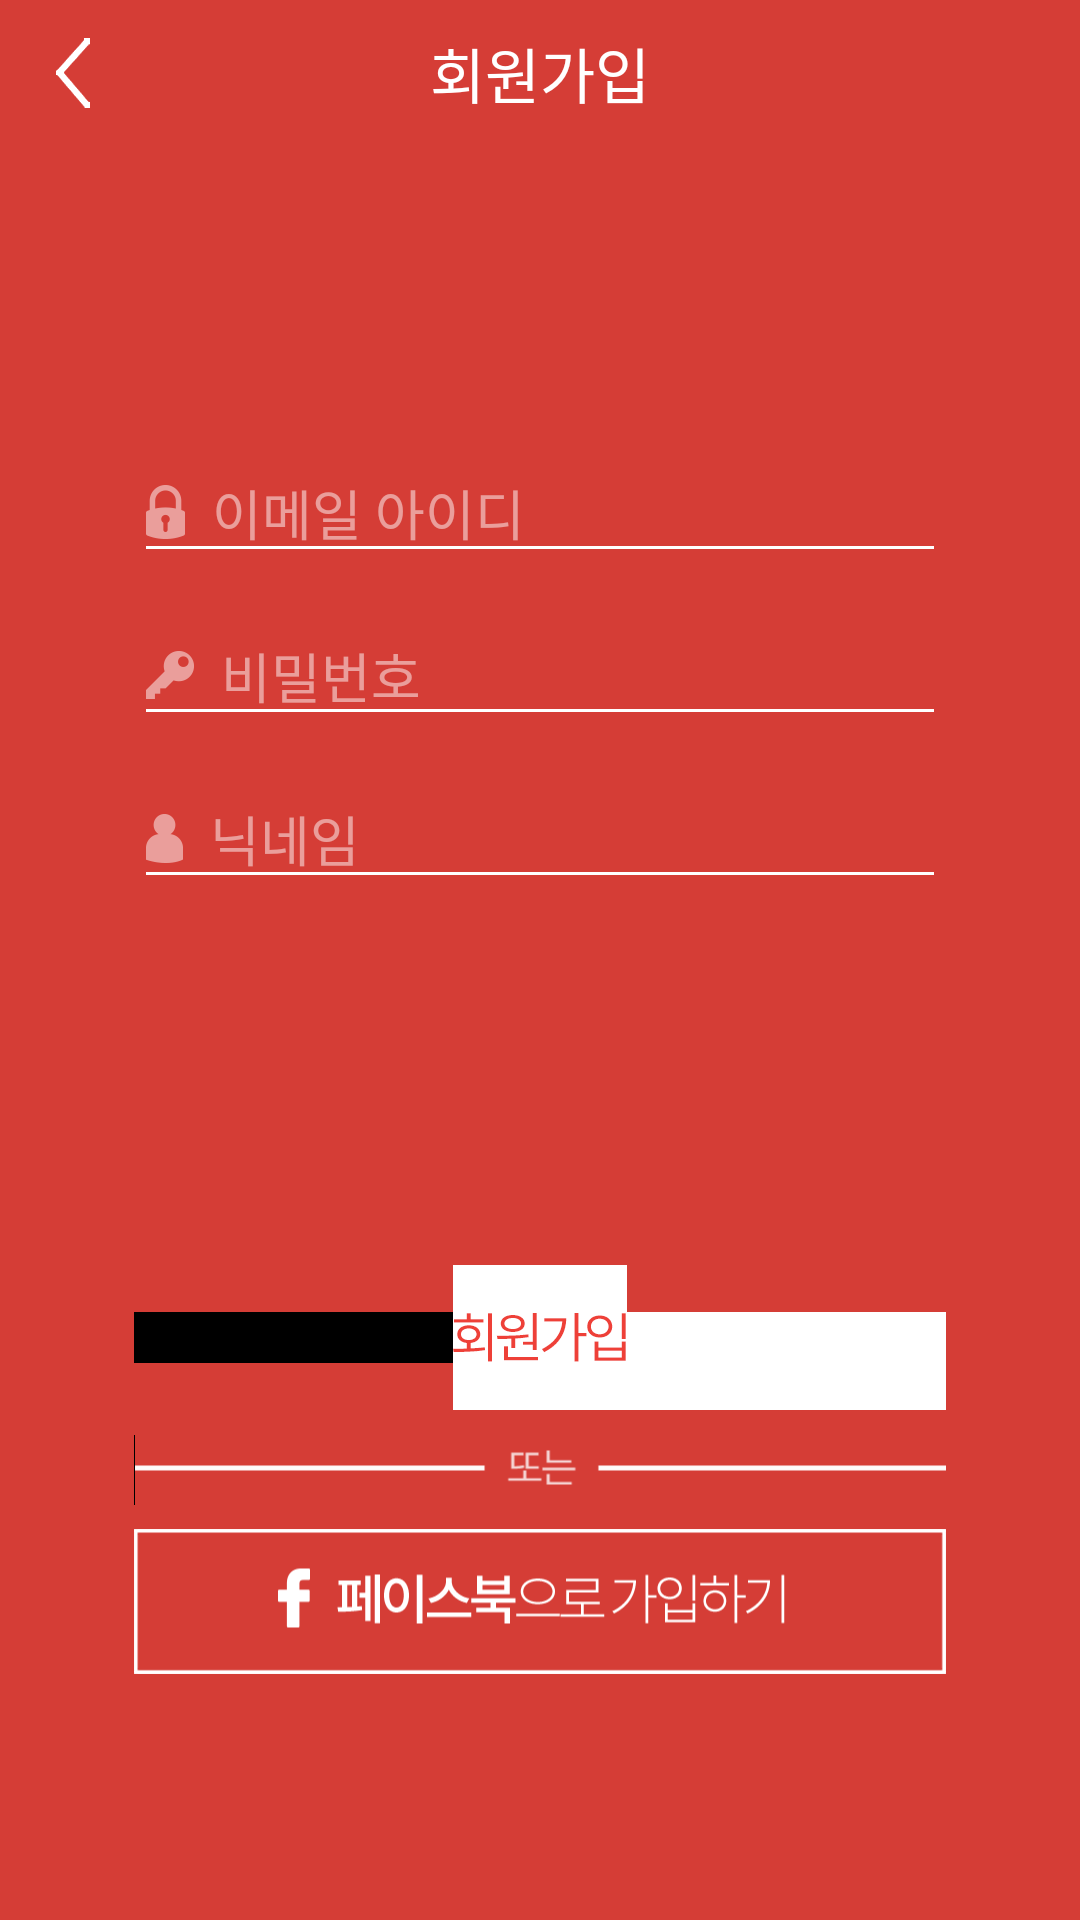

Where to tap for icons on this 1080*1920 app screen, as [x,y]:
back: [73,73]
